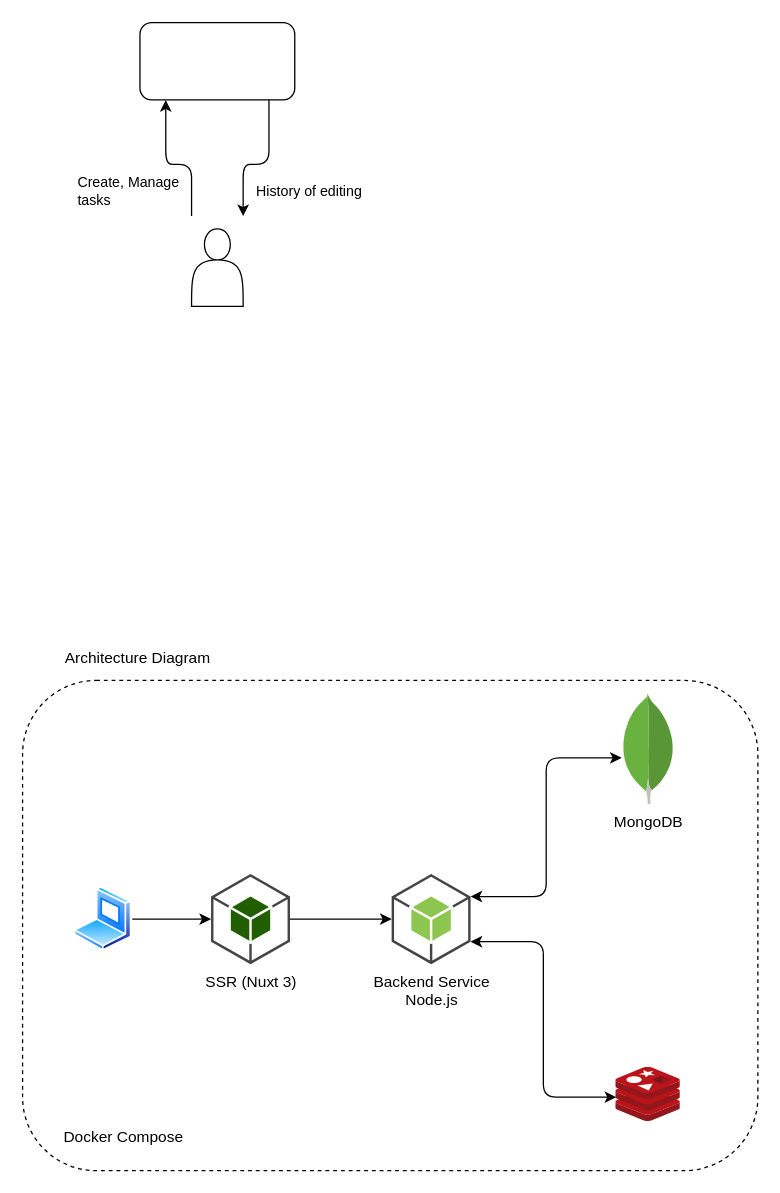
Some shapes in this 780 by 1193 pixel diagram are drawn without their labels. Here are the shapes that lost their labels. From the top down, the box of each, then its label:
(139, 21, 295, 100): UI Client
(615, 1067, 680, 1121): Redis
